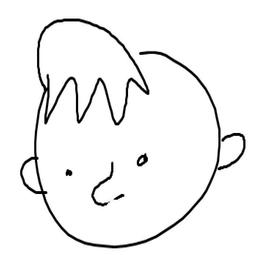ear: (12, 153, 43, 199), (216, 131, 247, 172)
nose: (87, 158, 127, 211)
small_eye: (133, 148, 154, 172), (64, 168, 74, 179)
